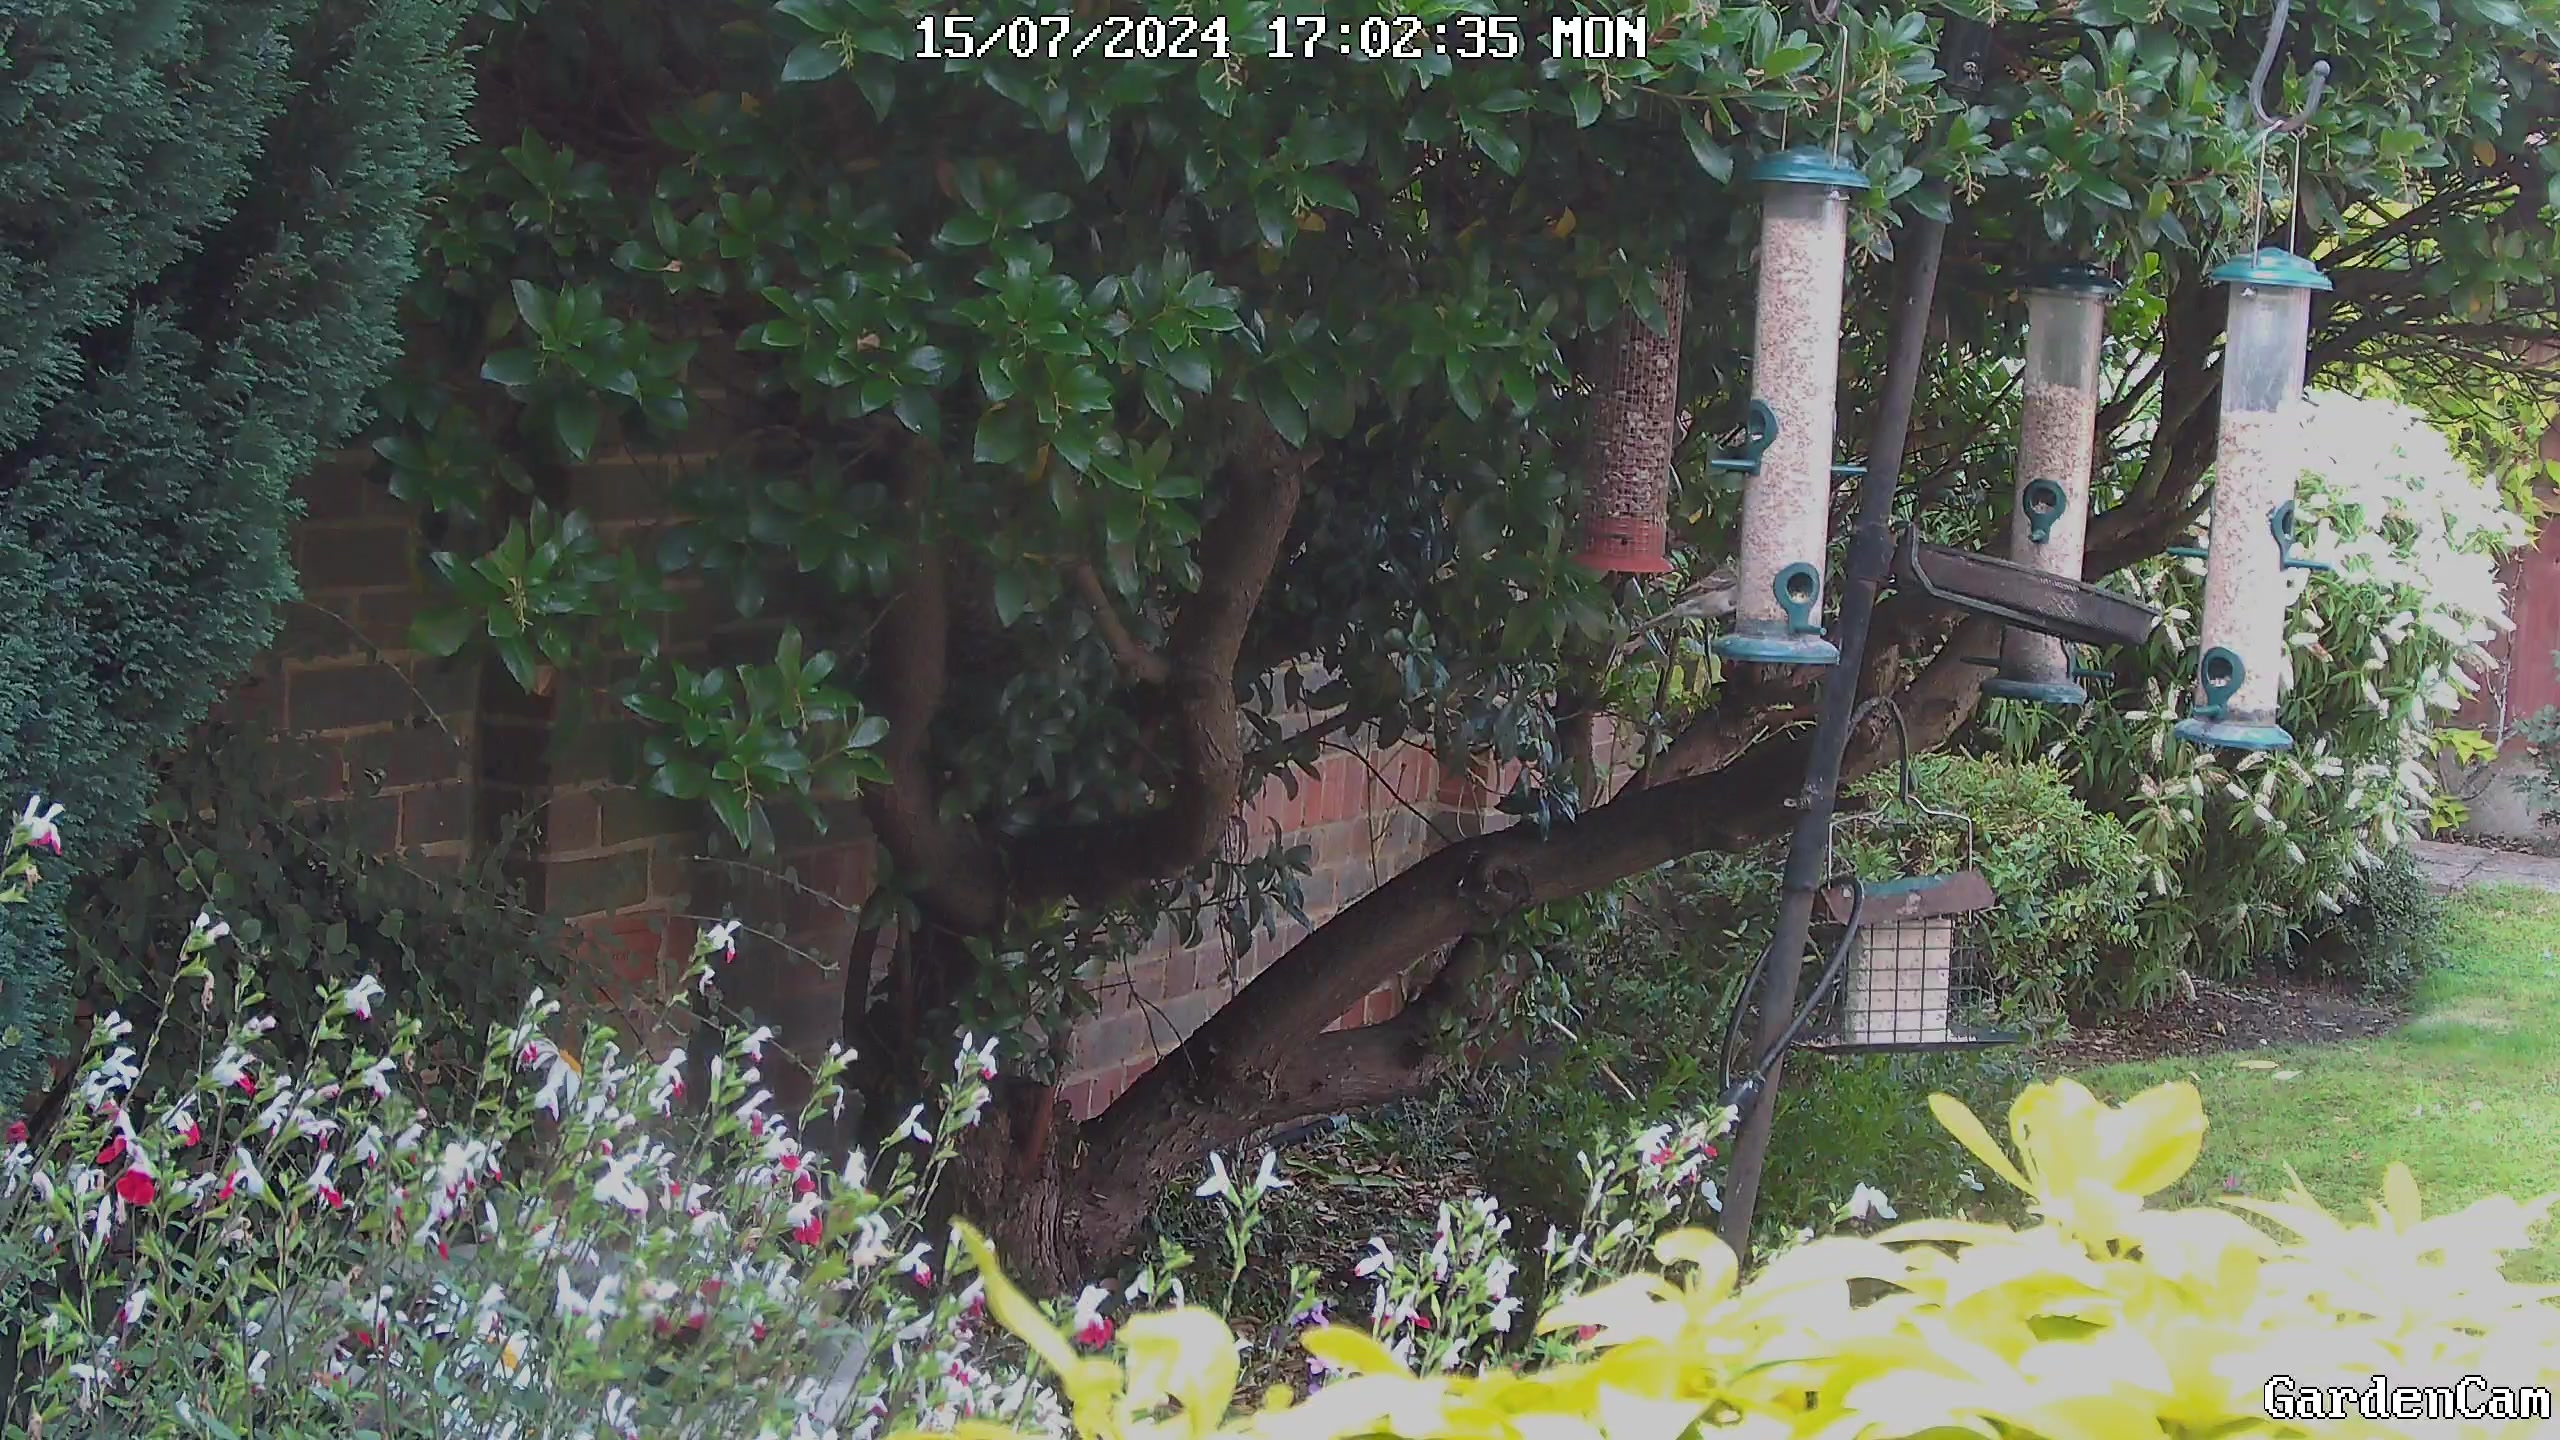House_Sparrow: (1625, 547, 1744, 652)
